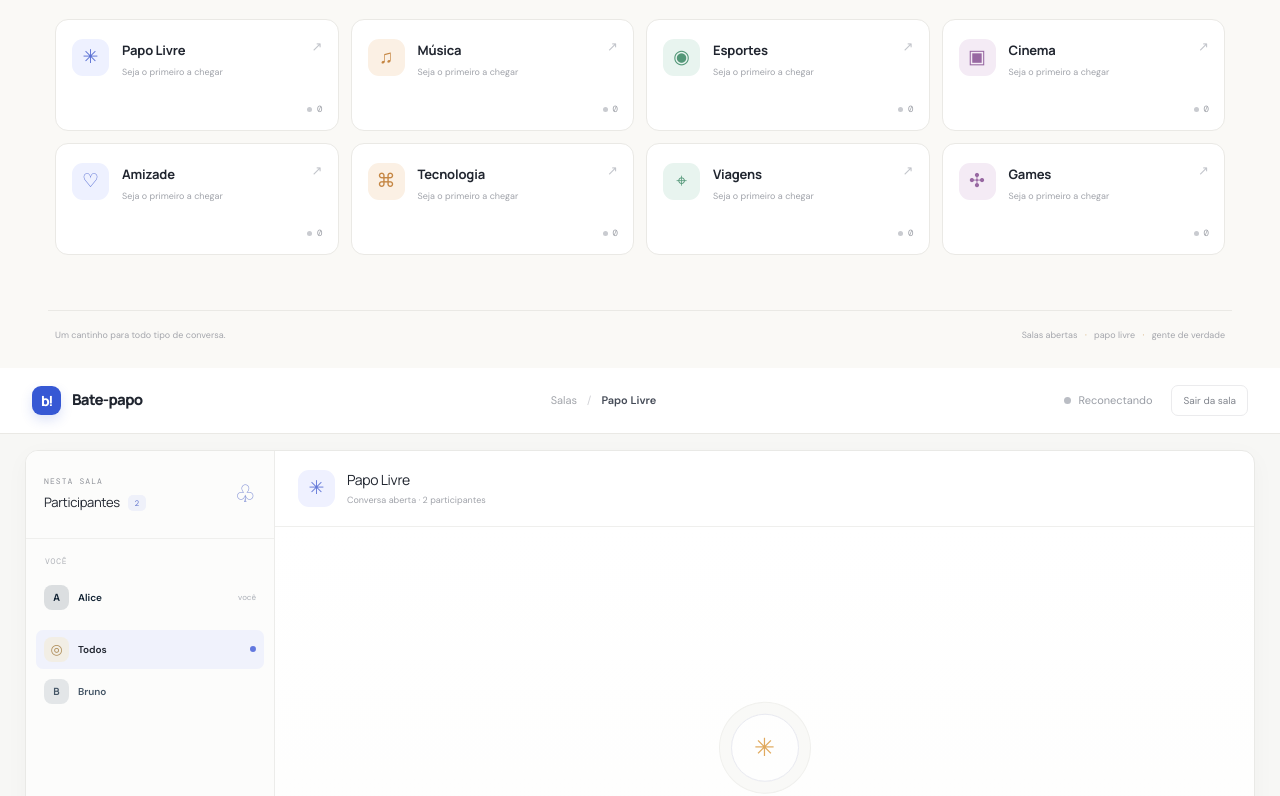
Test: robustez do cliente › mostra o erro quando a saída falha
(page scrolled)
Click the button "Sair da sala".
click(1210, 400)  # box [1172,384,1248,416]
(page scrolled)
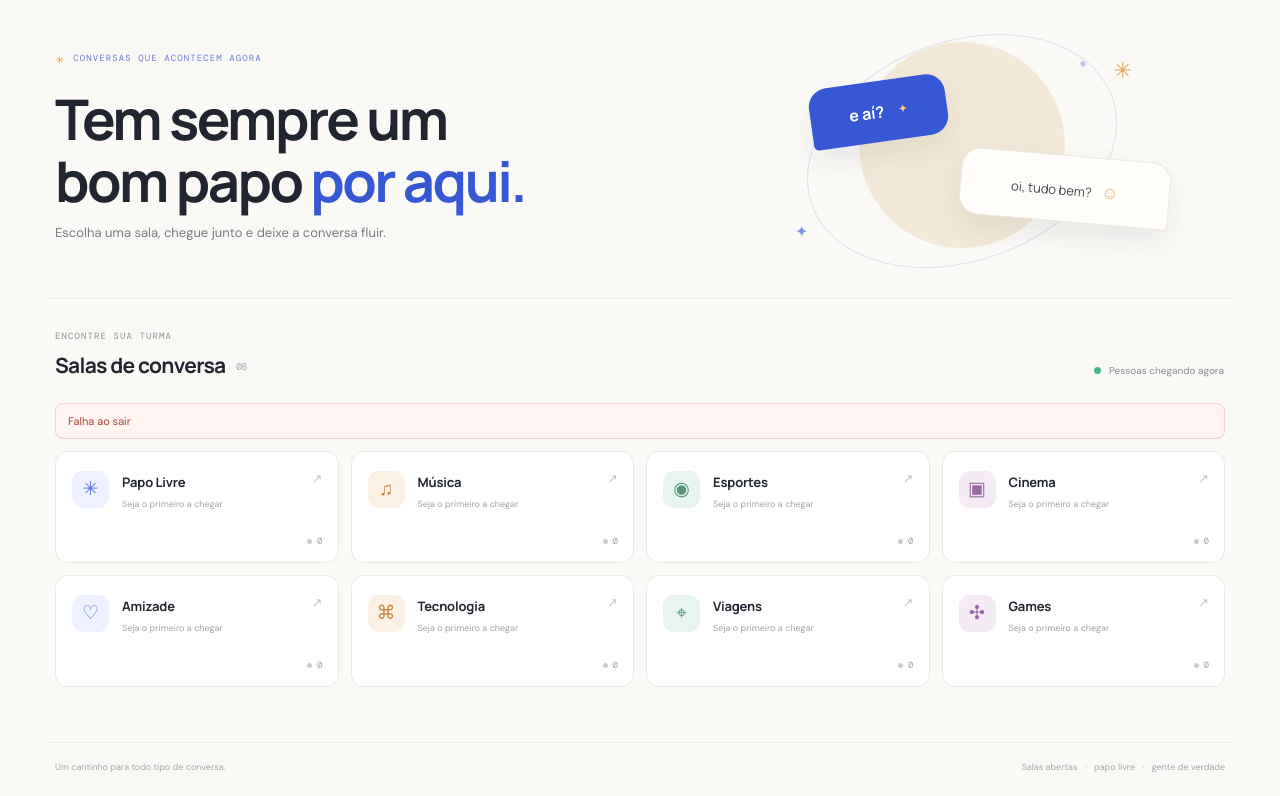
Result: the message reads "Falha ao sair" at [68,414,131,428]
Result: the heading "Participantes" is gone
